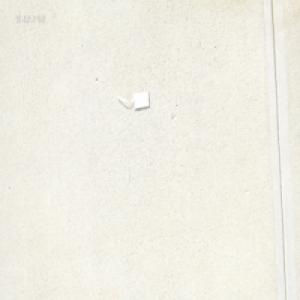LuggageTag: (114, 90, 150, 111)
